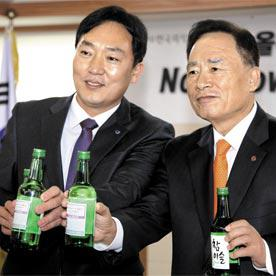soju: (12, 147, 100, 250), (204, 185, 242, 275)
